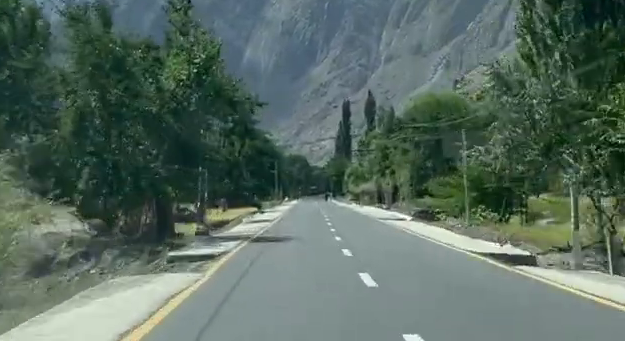left: (282, 200, 456, 333)
